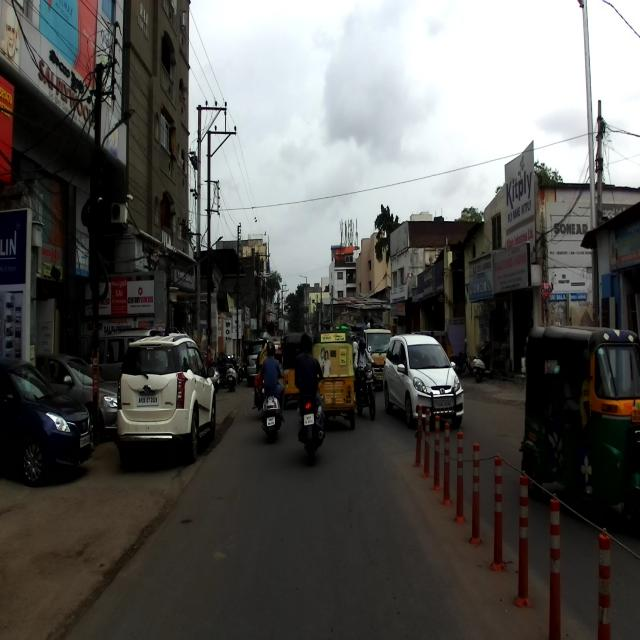autorickshaw: (518, 322, 640, 543)
car: (113, 329, 217, 468), (0, 355, 95, 487), (381, 328, 464, 430)
motorcycle: (296, 373, 326, 466)
